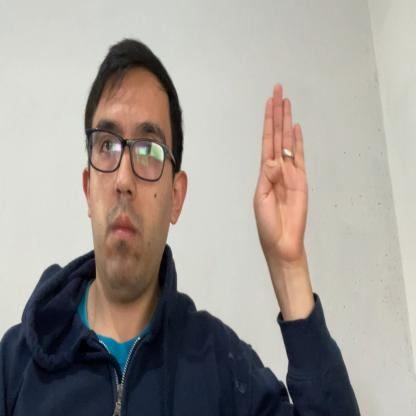B: (254, 82, 309, 265)
